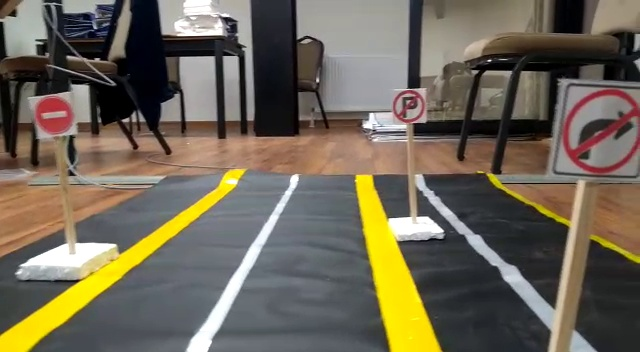girisi_olmayan_yol: (30, 96, 81, 135)
park_yapilmaz: (391, 86, 428, 122)
saga_donulmez: (563, 78, 640, 174)
